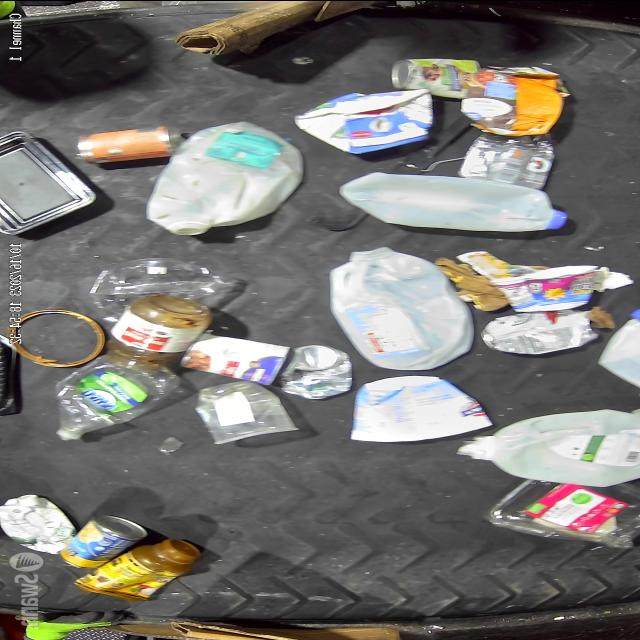can: (147, 120, 305, 234), (462, 65, 570, 135), (179, 332, 291, 385), (482, 307, 601, 353), (59, 514, 148, 568), (280, 344, 352, 399), (76, 125, 178, 163), (391, 58, 480, 98)
milk_jug: (330, 246, 474, 370), (456, 407, 640, 487), (335, 171, 567, 231), (597, 307, 640, 388)
plastic_bottle: (55, 359, 179, 442)
